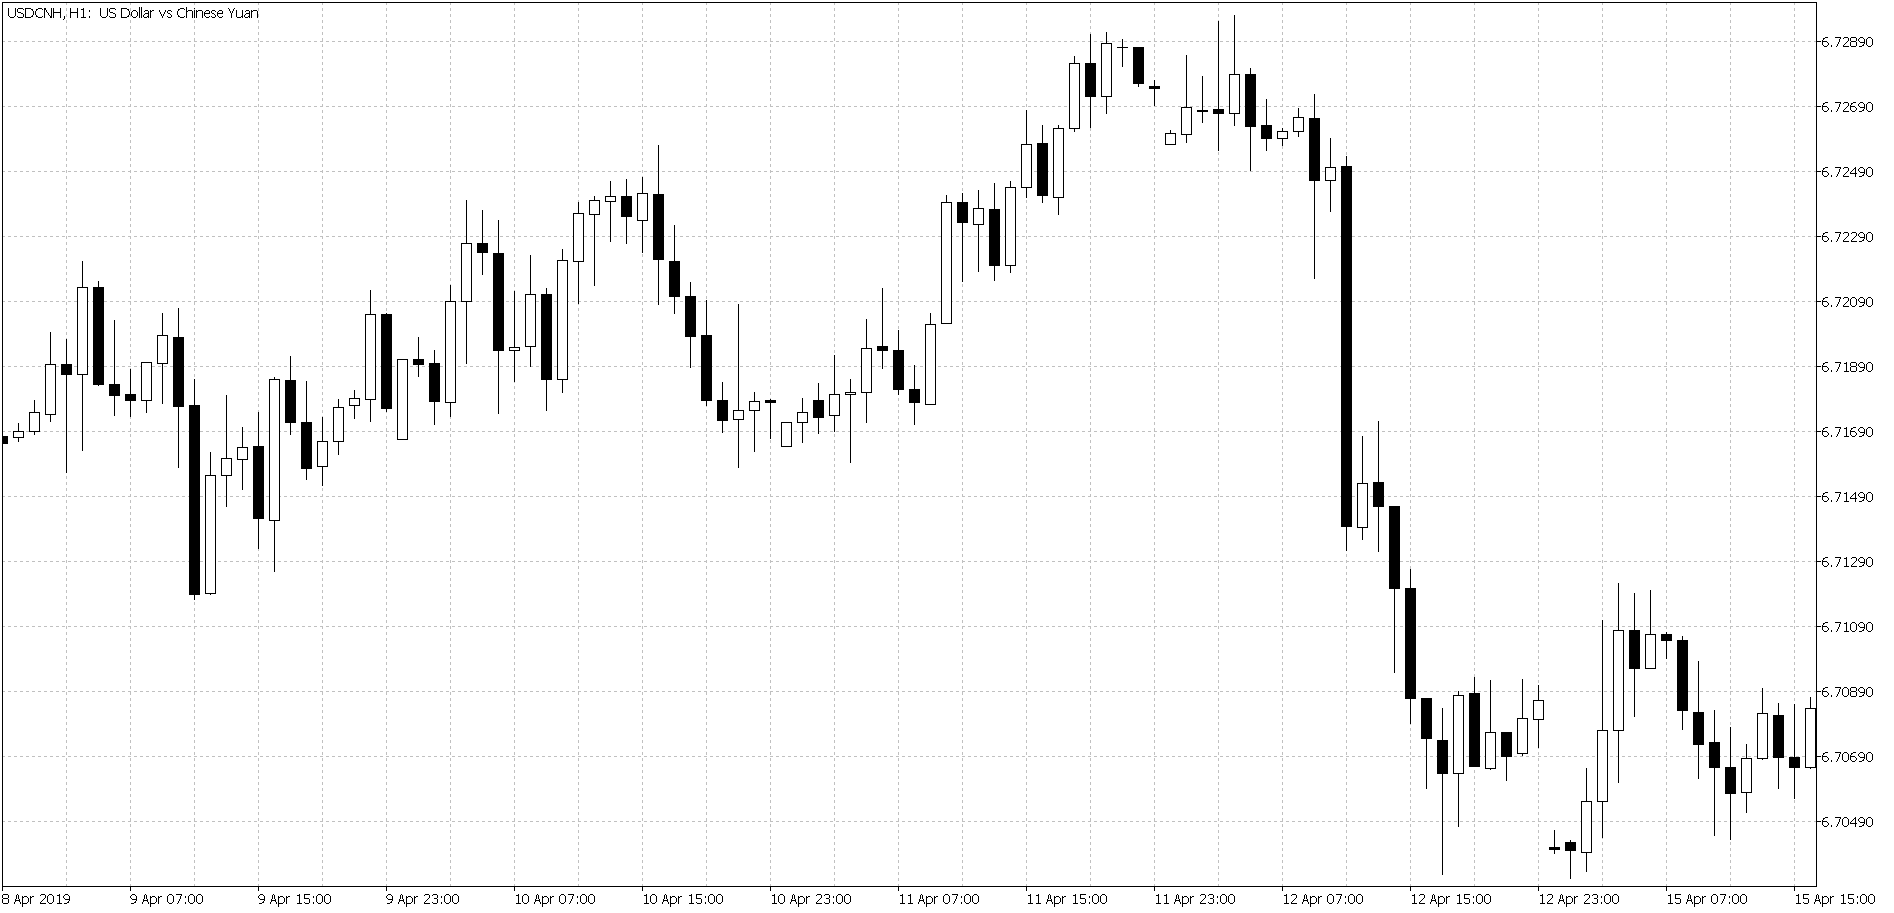3blackcrows: (651, 136, 699, 370)
eveningDojiStar: (1099, 25, 1148, 136)
morningStar: (891, 309, 939, 434)
